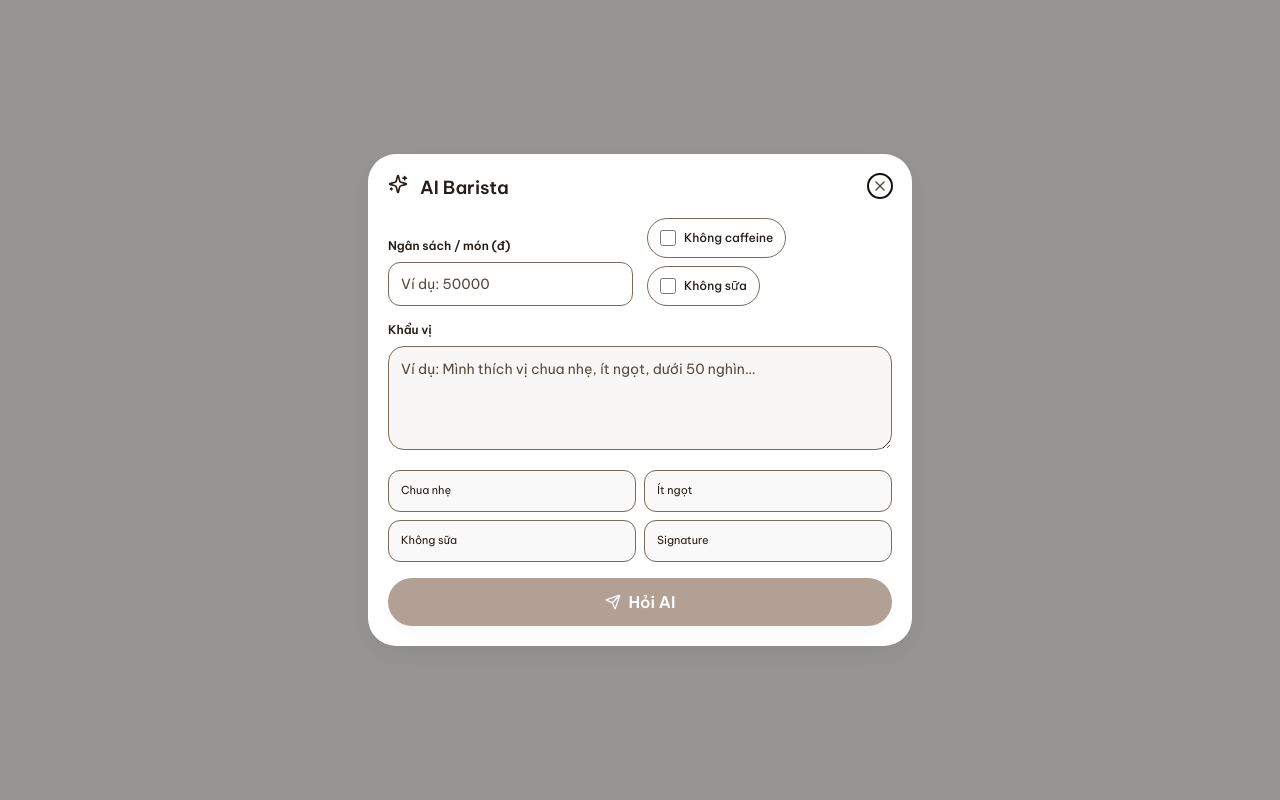
Test: removed features in the client › keeps menu AI recommendations and removes Freestyle selection
Expected: the text box named "Mô tả khẩu vị" is empty, [388, 346, 892, 450]
Expected: the button "Hỏi AI" is disabled, [388, 578, 892, 626]
Click the button "Chua nhẹ" at (512, 491), box [388, 470, 636, 512]
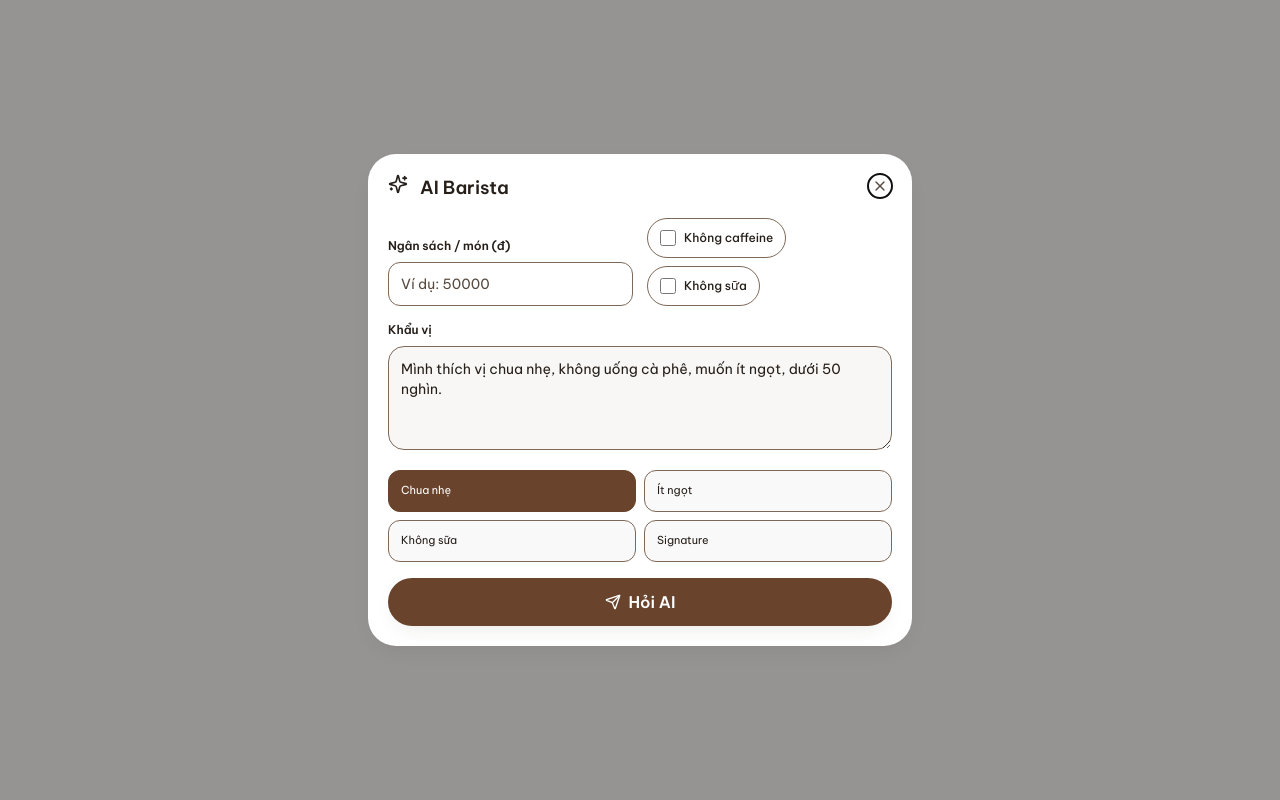
Click the button "Hỏi AI" at (640, 602), box [388, 578, 892, 626]
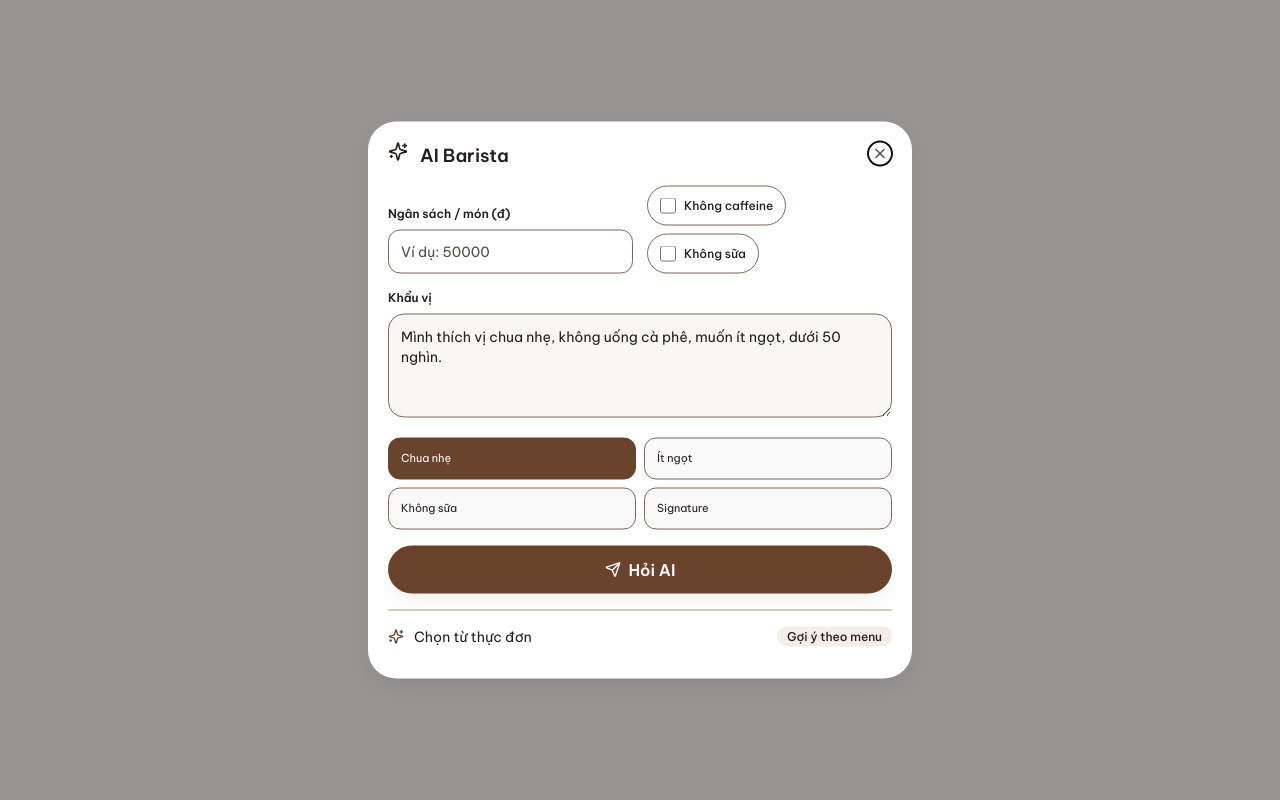
Result: the text "Chọn từ thực đơn" is shown at [414, 628, 532, 646]
